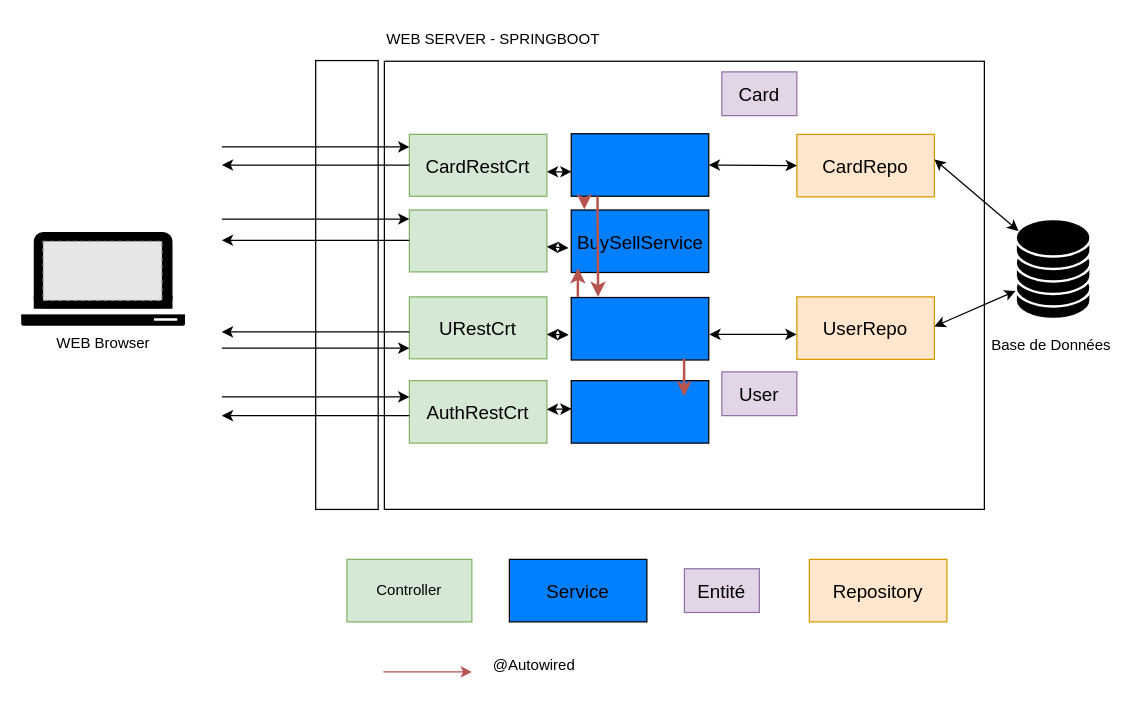
Some shapes in this 1144 by 705 pixel diagram are drawn without their labels. Grey dashed boxes stand in for pictures. Each missing label, with the box of its shape:
AuthService: (570, 379, 709, 443)
BuySellCrt: (408, 209, 547, 272)
CardService: (570, 132, 709, 196)
HTTP SERVER: (314, 59, 378, 509)
UserService: (570, 296, 709, 360)
